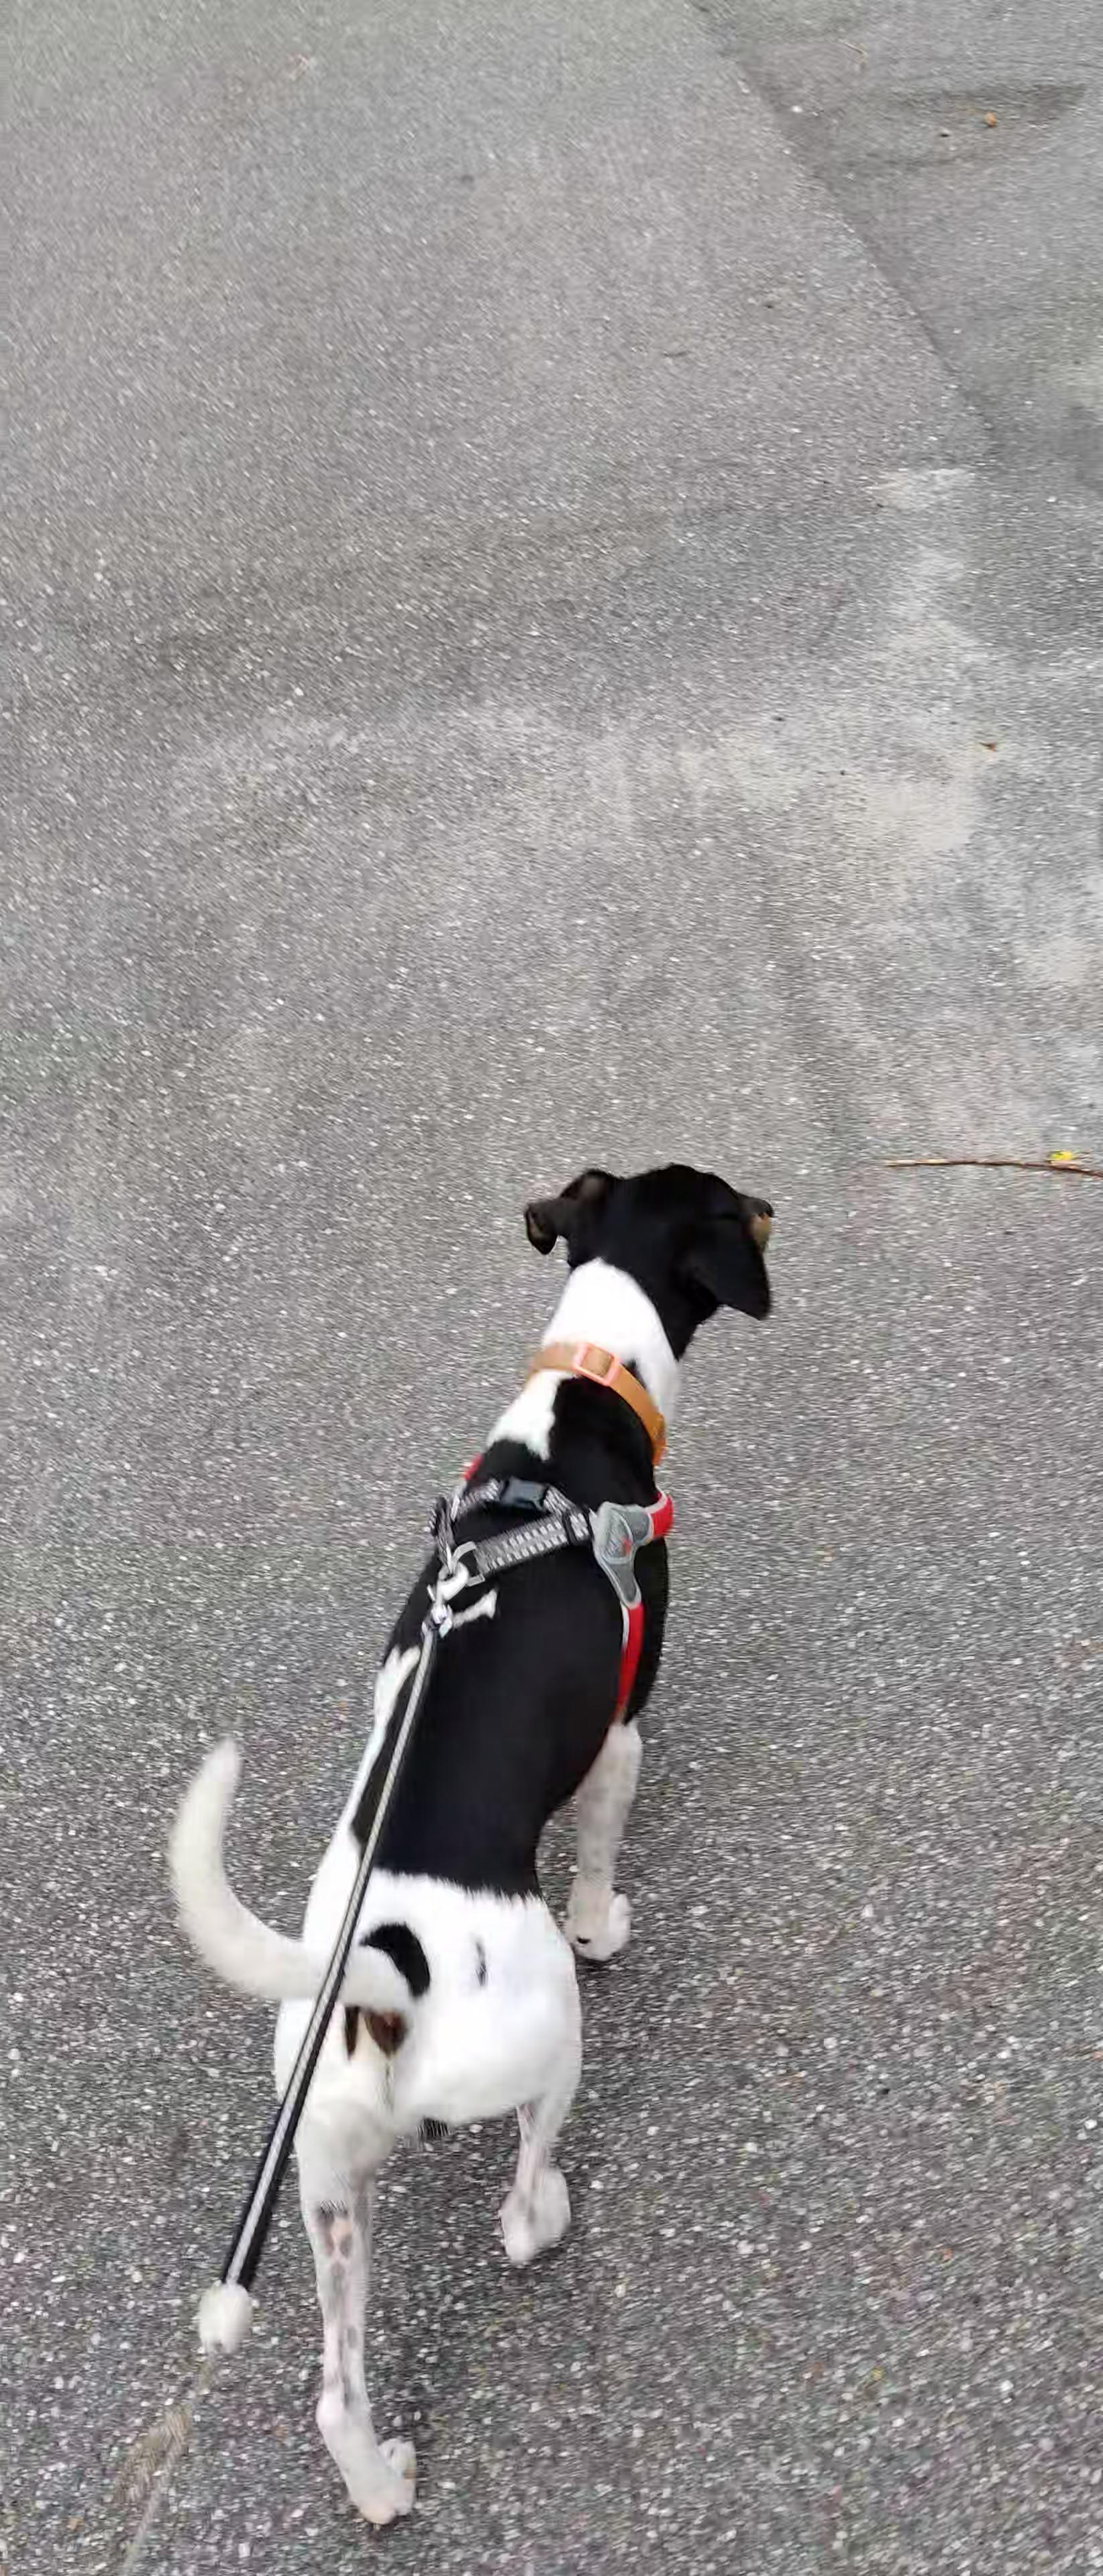Dog: (155, 1155, 786, 2532)
